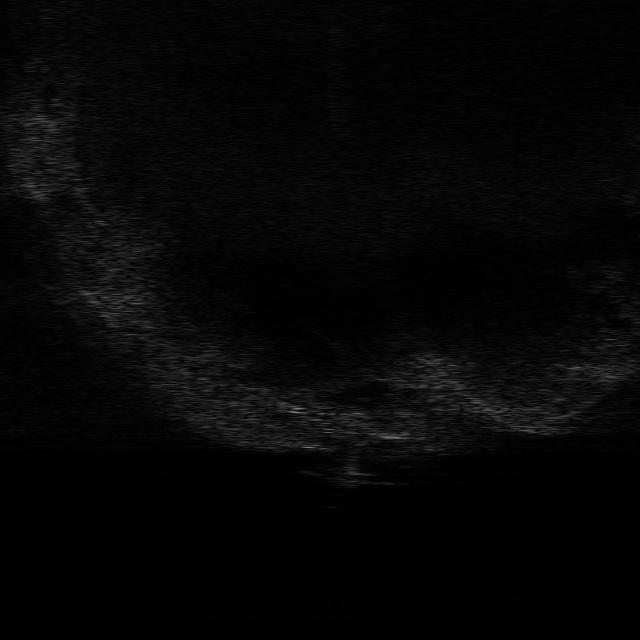plane: (295, 457, 394, 486)
